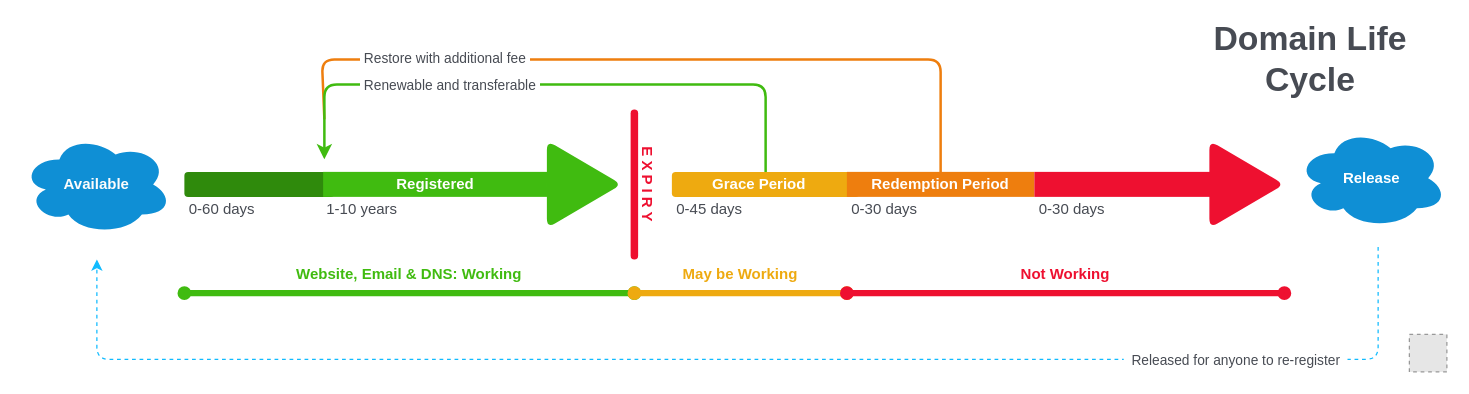
The diagram is 1469 pixels wide and 394 high, and some of its shapes have lost their labels. Grey dashed boxes stand in for pictures. The centre of each missing label's shape, as x and y in pixels:
Deletion Period: (1127,183)
Transfer Blocked: (259,183)
